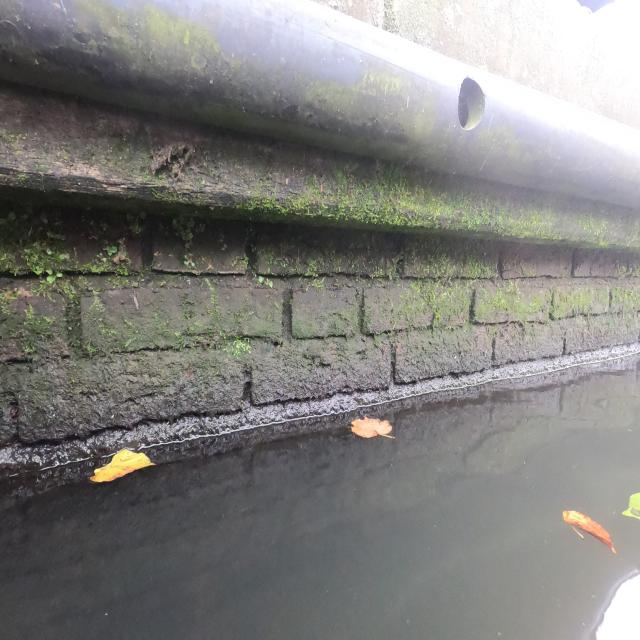water: (0, 368, 634, 634)
